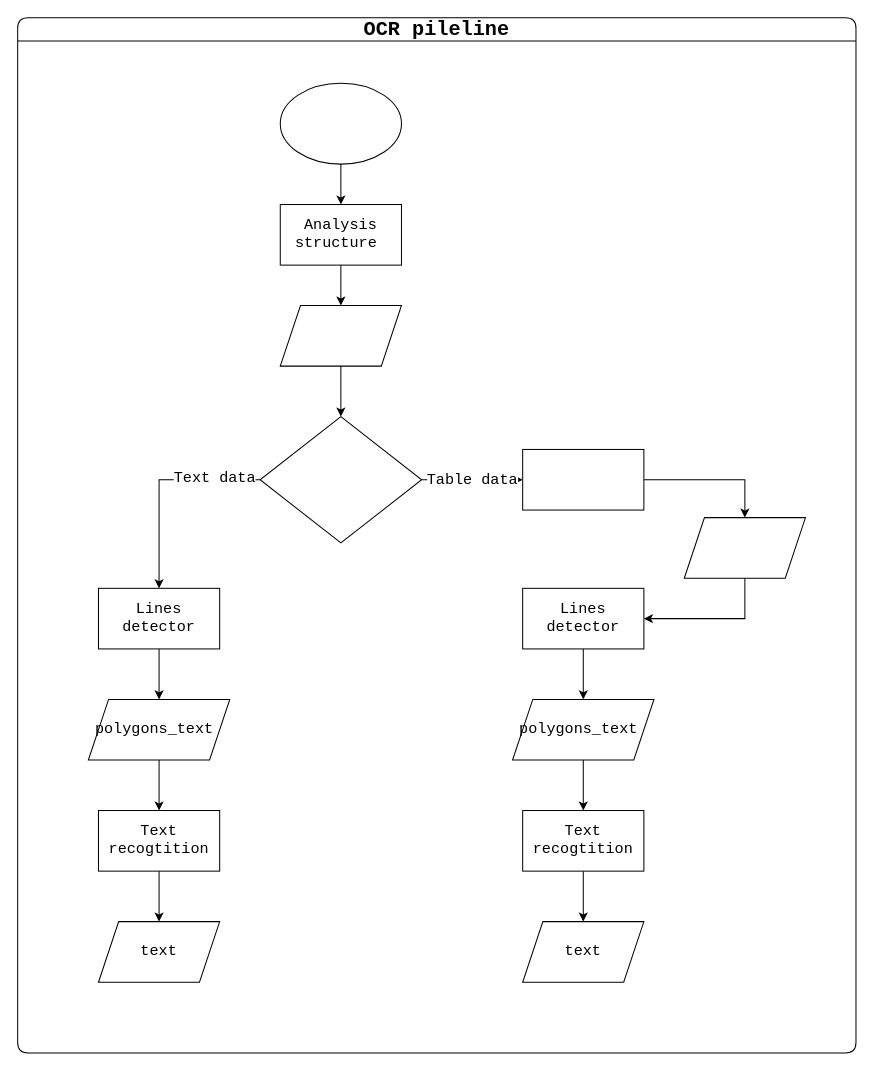
Image size: 874x1071. Some labels were removed from this diagram. The shapes that lost their labels are listed below. From the top down, each one's box as (x1, y1, x2, y2) in pixels, then its label:
(279, 82, 401, 164): img
(279, 305, 401, 366): label_data bbox_data
(259, 416, 422, 543): check type data
(522, 448, 644, 510): Cells detector
(683, 517, 805, 578): cell_bbox
